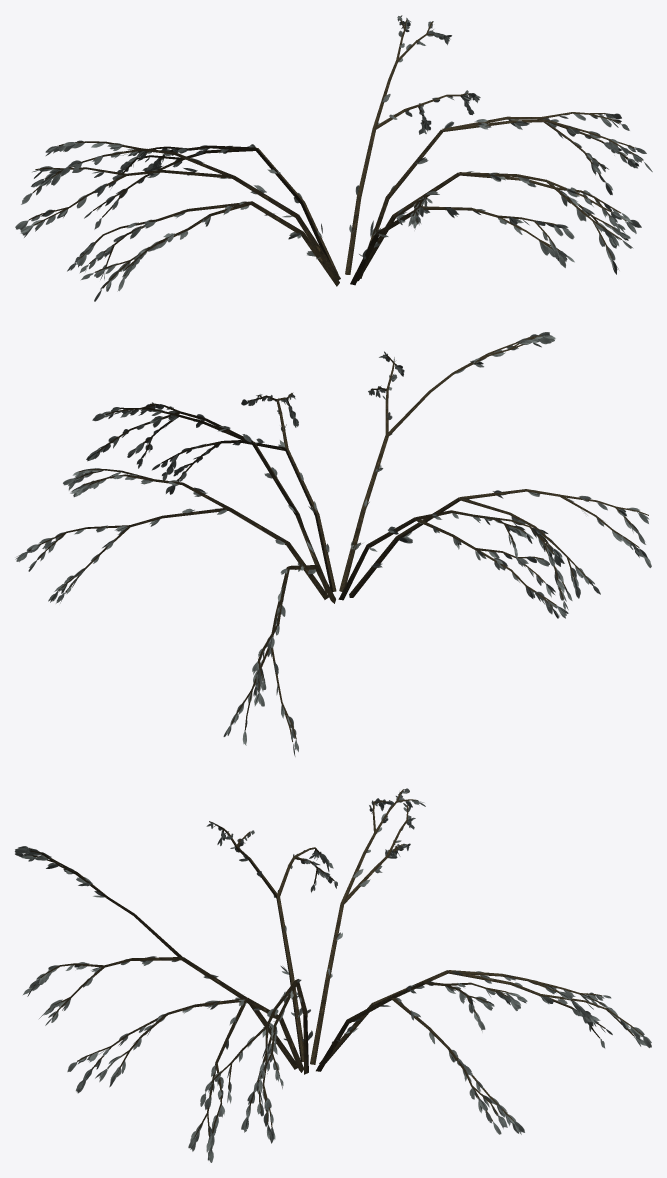
File: willow_shrub_v02_LOD1.glb
3 views of the same model, one above another, from view 1: azimuth 30°, elevation 25°; view 2: azimuth 150°, elevation 25°; view 3: azimuth 270°, elevation 25° (orthographic). The views are drawn at different scales.
Visible parts, largest first — view 1: willow_shrub_v02_LOD1; view 2: willow_shrub_v02_LOD1; view 3: willow_shrub_v02_LOD1.
Boxes of the visible parts, x1=… form: willow_shrub_v02_LOD1: x1=15, y1=15, x2=652, y2=301; willow_shrub_v02_LOD1: x1=15, y1=332, x2=651, y2=756; willow_shrub_v02_LOD1: x1=14, y1=788, x2=651, y2=1162.
Bounding box in the file's own units: 10.74 × 3.94 × 10.36.
Materials: 2 (2 with a texture image).
